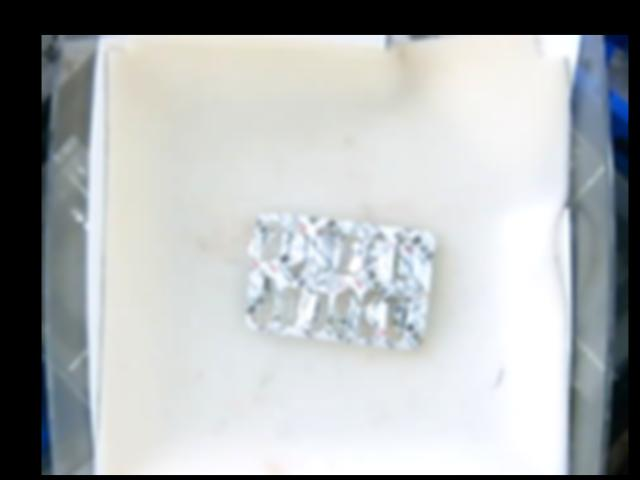Medicine: (245, 213, 434, 347)
